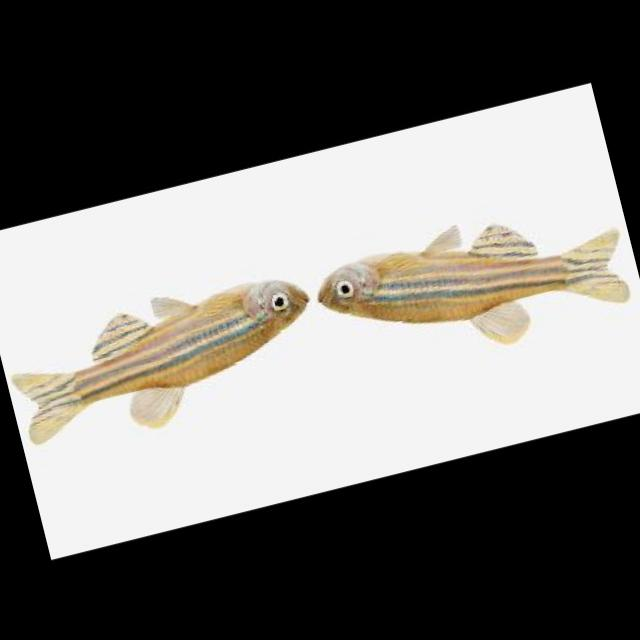ZebraFish: (306, 190, 639, 390), (4, 269, 334, 465)
